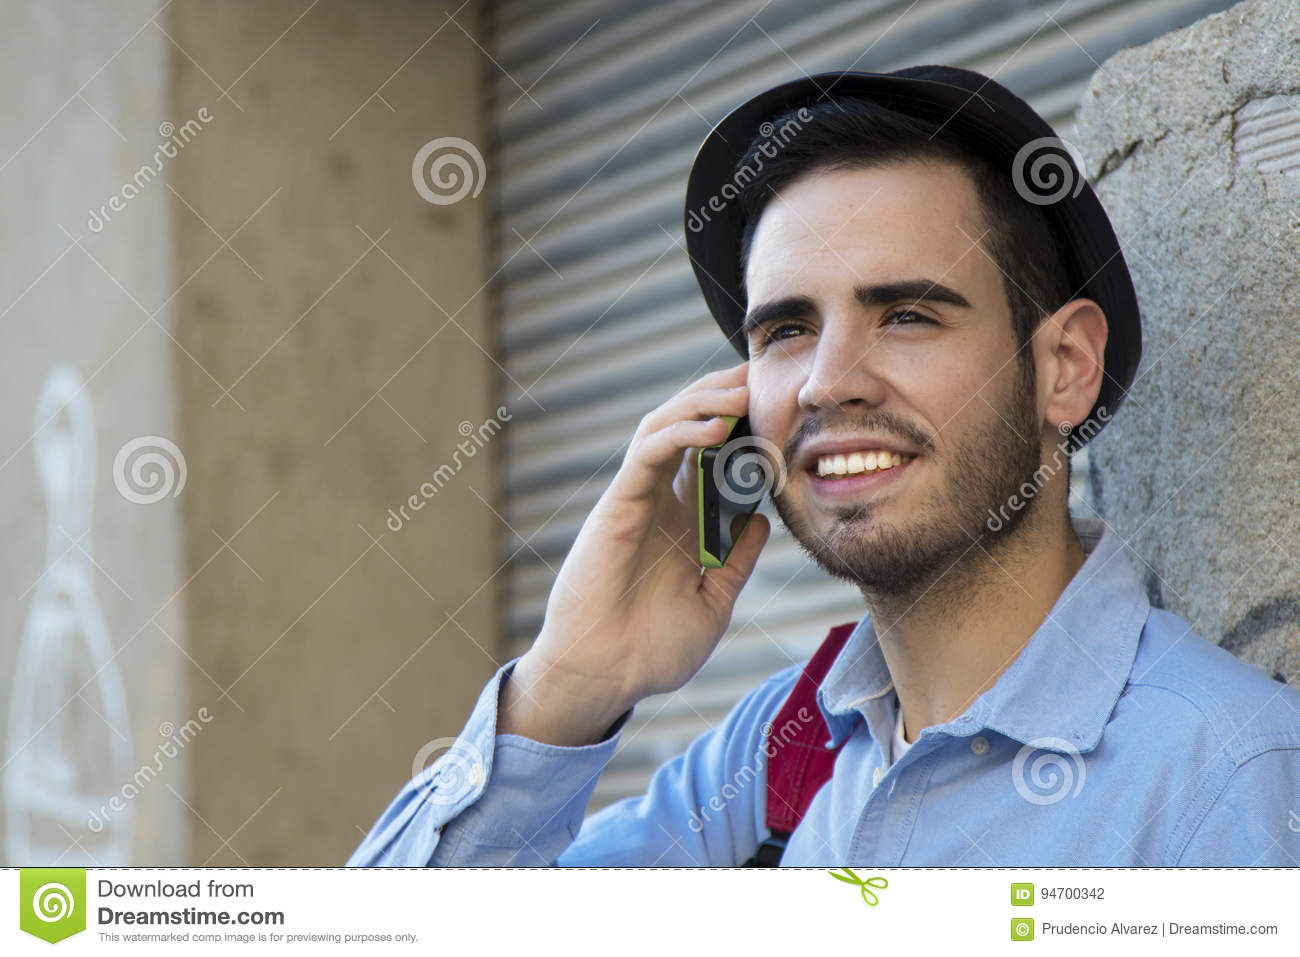phone: (691, 361, 760, 584)
talk: (548, 239, 983, 732)
